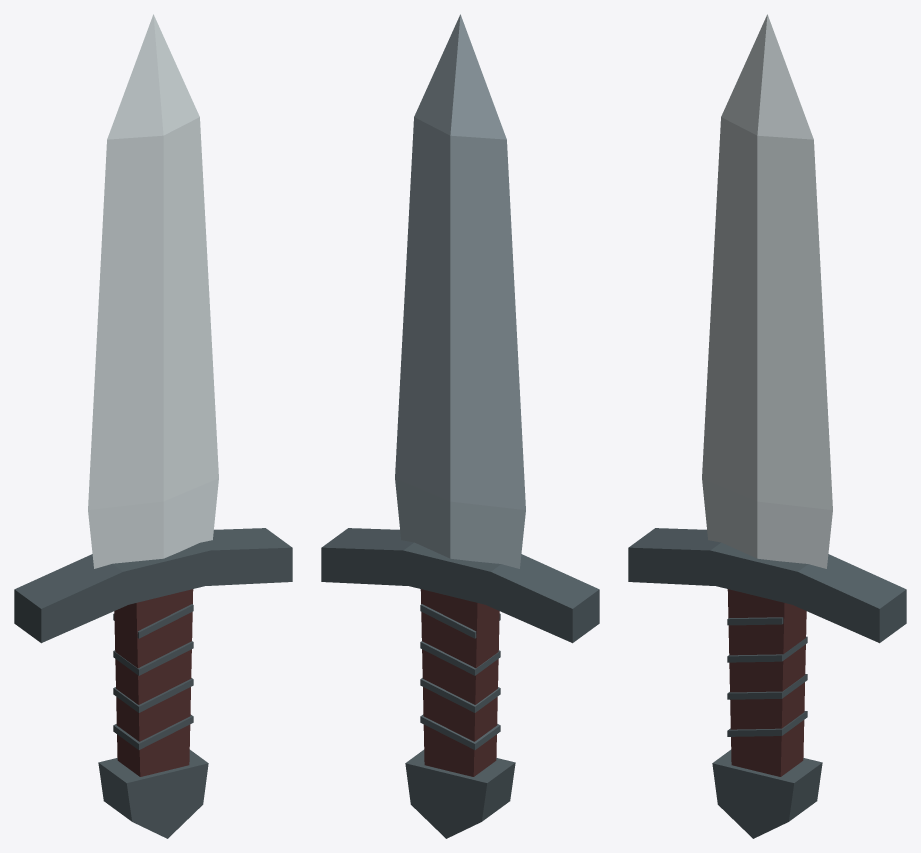
Rendered from training-blade.glb.
The picture shows the model from 3 angles, left to right: view 1: azimuth 30°, elevation 25°; view 2: azimuth 150°, elevation 25°; view 3: azimuth 330°, elevation 25°; orthographic projection.
Parts seen in each view (by area): view 1: trainingBlade | blade, trainingBlade | guard, trainingBlade | handle, trainingBlade | pommel, trainingBlade | grip binding, trainingBlade | grip binding.001, trainingBlade | grip binding.002; view 2: trainingBlade | blade, trainingBlade | guard, trainingBlade | handle, trainingBlade | pommel, trainingBlade | grip binding, trainingBlade | grip binding.001, trainingBlade | grip binding.002; view 3: trainingBlade | blade, trainingBlade | guard, trainingBlade | handle, trainingBlade | pommel, trainingBlade | grip binding, trainingBlade | grip binding.001, trainingBlade | grip binding.002.
Part boxes in pixels (left/top/right/bottom): trainingBlade | blade: left=88, top=14, right=218, bottom=568; trainingBlade | guard: left=14, top=528, right=292, bottom=643; trainingBlade | handle: left=114, top=589, right=193, bottom=776; trainingBlade | pommel: left=98, top=749, right=208, bottom=838; trainingBlade | grip binding: left=113, top=714, right=193, bottom=749; trainingBlade | grip binding.001: left=113, top=678, right=193, bottom=712; trainingBlade | grip binding.002: left=113, top=641, right=193, bottom=675; trainingBlade | blade: left=395, top=14, right=525, bottom=568; trainingBlade | guard: left=321, top=528, right=599, bottom=643; trainingBlade | handle: left=420, top=589, right=499, bottom=776; trainingBlade | pommel: left=405, top=749, right=515, bottom=838; trainingBlade | grip binding: left=420, top=714, right=500, bottom=749; trainingBlade | grip binding.001: left=420, top=678, right=500, bottom=712; trainingBlade | grip binding.002: left=420, top=641, right=500, bottom=675; trainingBlade | blade: left=702, top=14, right=832, bottom=568; trainingBlade | guard: left=628, top=528, right=906, bottom=643; trainingBlade | handle: left=727, top=589, right=806, bottom=776; trainingBlade | pommel: left=712, top=749, right=822, bottom=838; trainingBlade | grip binding: left=727, top=711, right=807, bottom=736; trainingBlade | grip binding.001: left=727, top=674, right=807, bottom=699; trainingBlade | grip binding.002: left=727, top=636, right=807, bottom=662.
Size of the model in its own units: 0.46 by 1.42 by 0.09.
